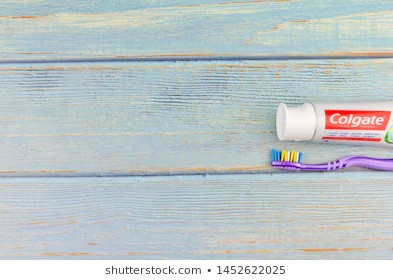colgate-total-150gm: (273, 100, 393, 140)
toothbrush: (264, 144, 393, 181)
